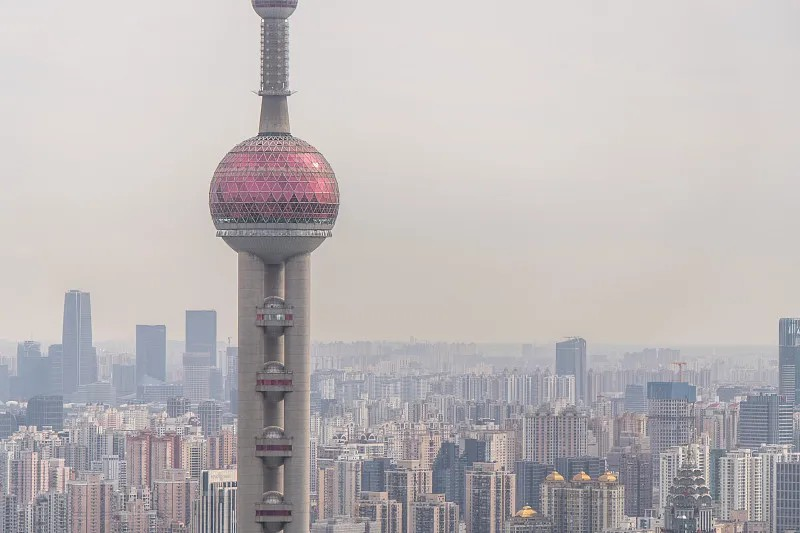Oriental: (208, 1, 340, 533)
